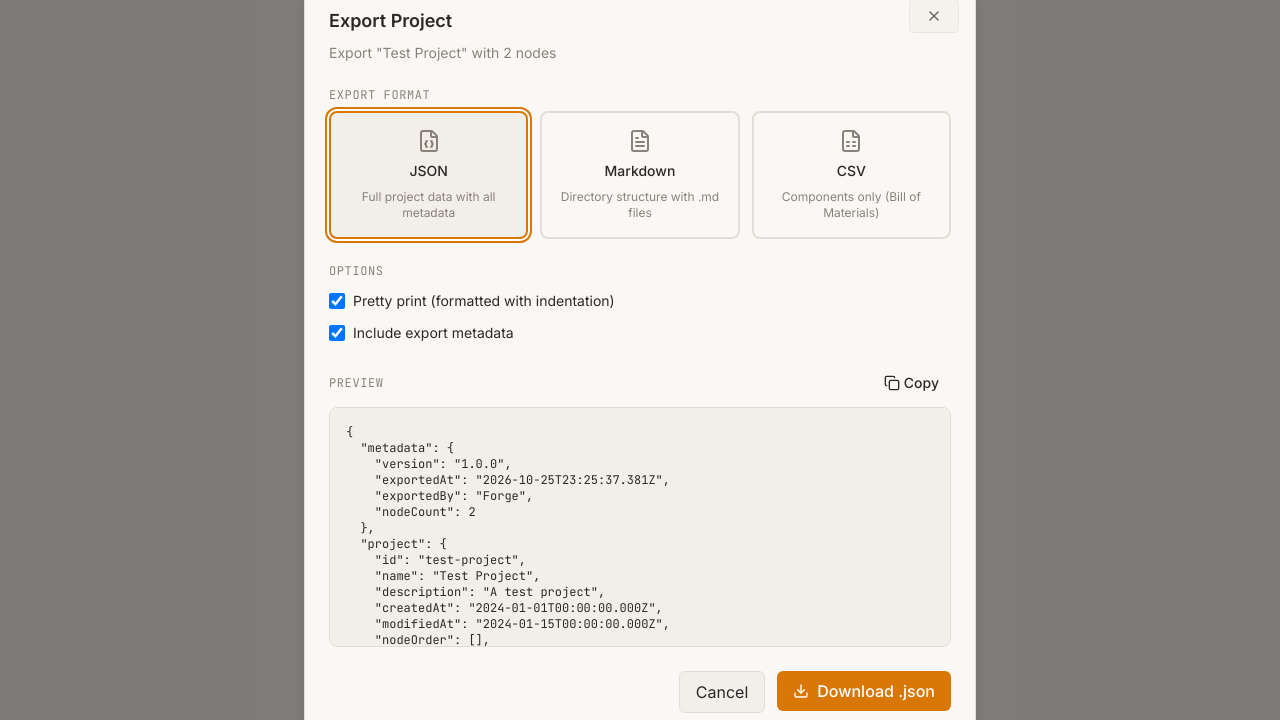
Scenario: ExportDialog › CSV options › has Components list selected by default
Click the radio button labelled "CSV Components only (Bill of Materials)" at (851, 175), box [752, 111, 951, 239]
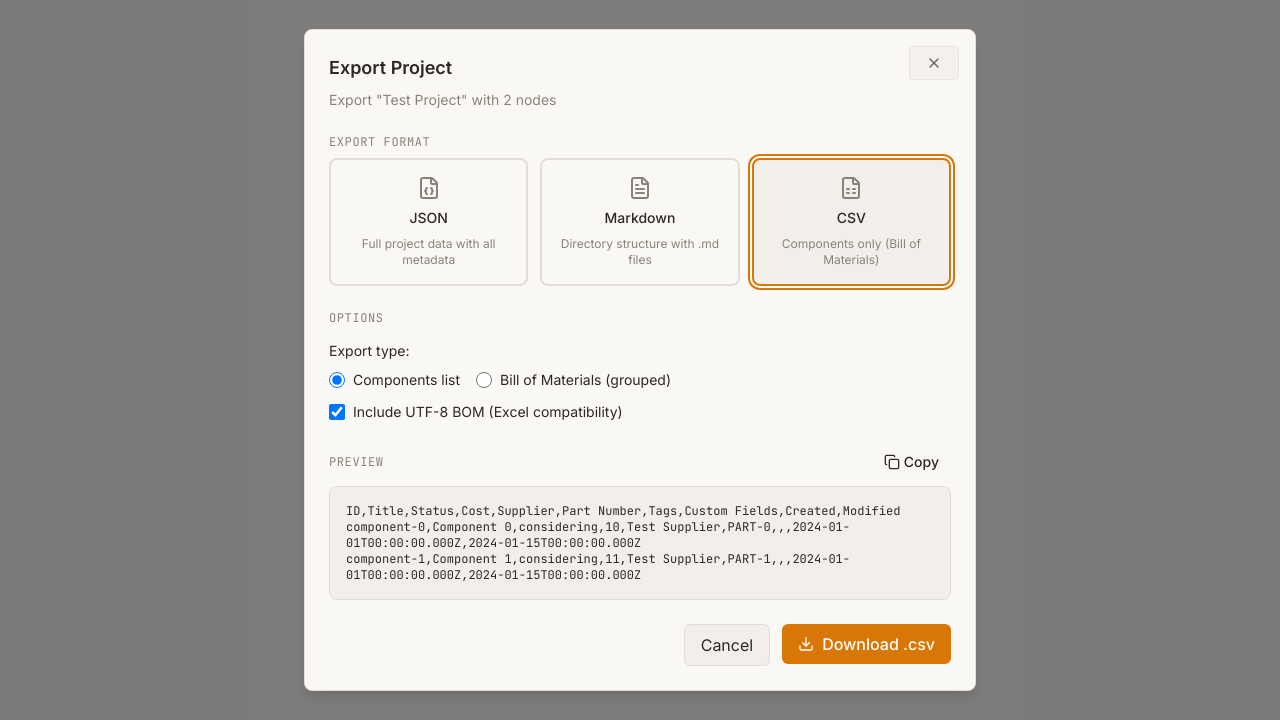
Expected: the radio button labelled "Components list" is checked, [329, 372, 345, 388]
